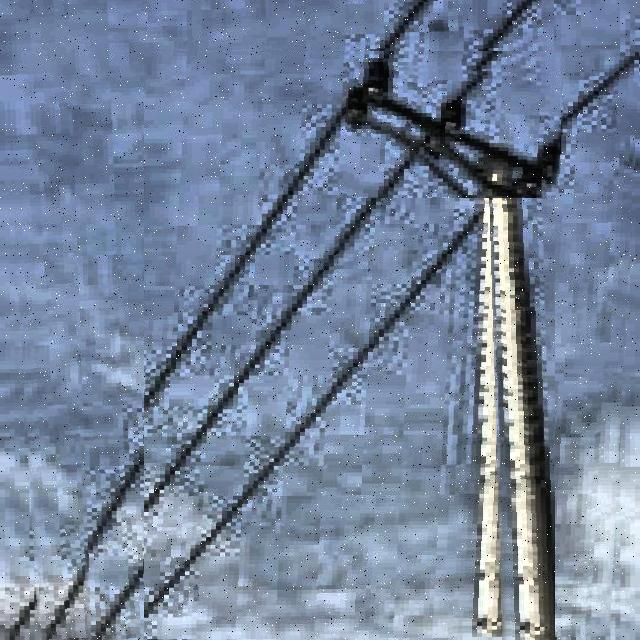crossarm: (347, 65, 559, 198)
pole: (489, 191, 555, 640)
wire: (83, 0, 543, 640), (144, 51, 640, 631), (32, 0, 432, 640)
